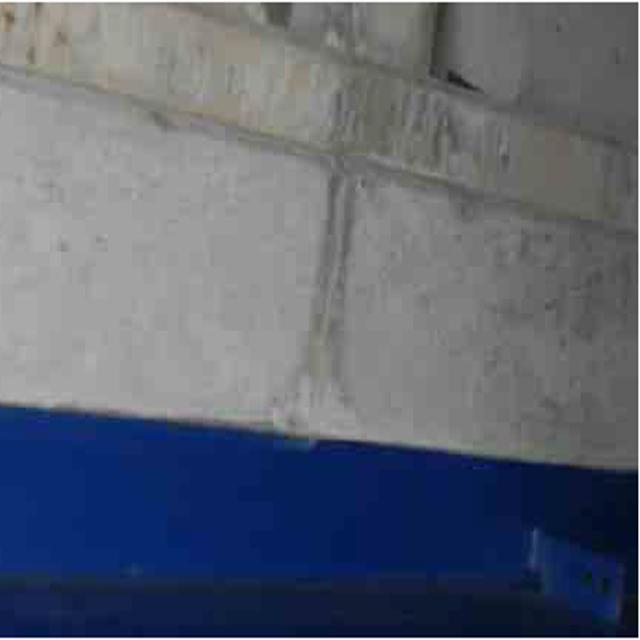freelime: (403, 80, 524, 204), (247, 346, 367, 451)
